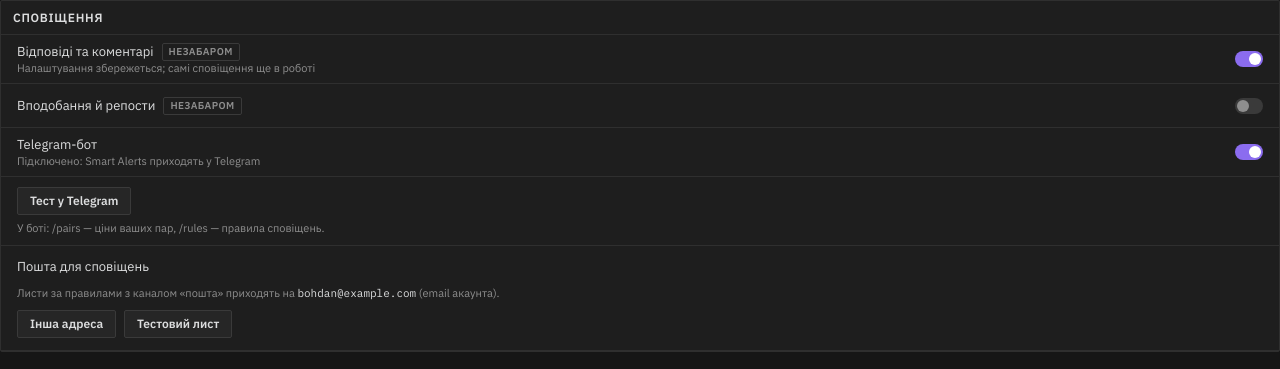
it: тестові сповіщення › показує причину, чому лист не пішов
Click the button "Тестовий лист": (178, 324) [124,310,232,338]
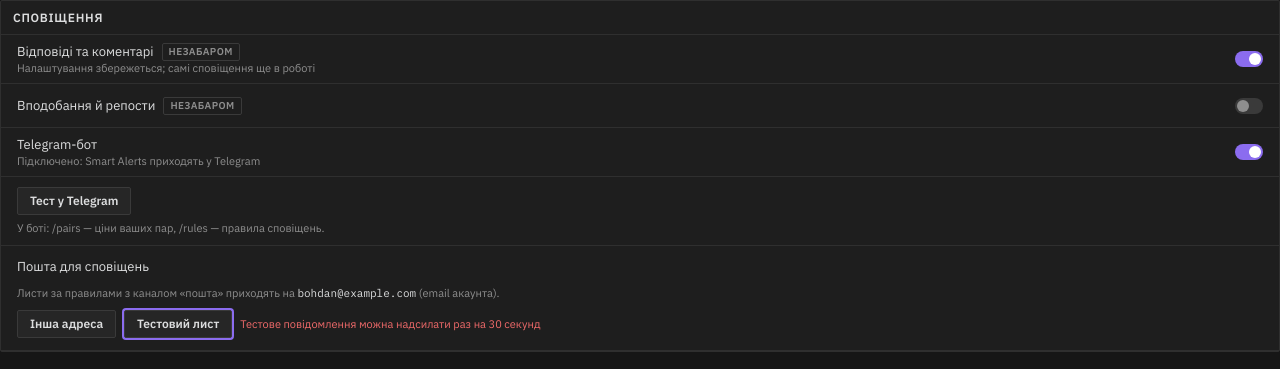
Now the text "Тестове повідомлення можна надсилати раз на 30 секунд" is shown, box [240,317,540,331]
